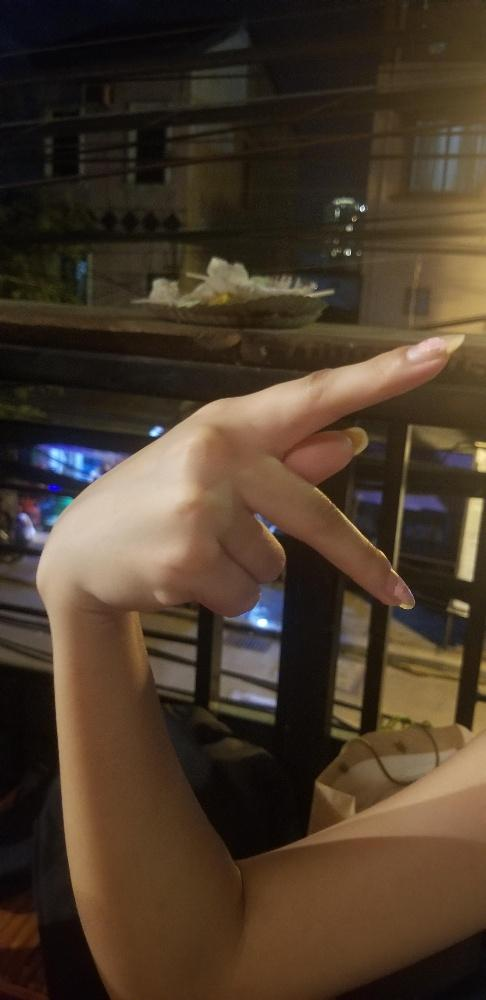k: (33, 324, 469, 621)
